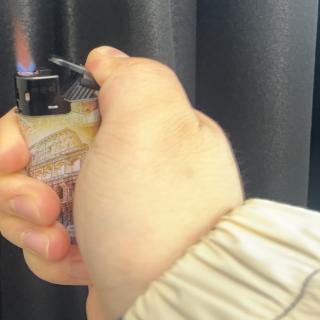fire: (12, 14, 36, 74)
